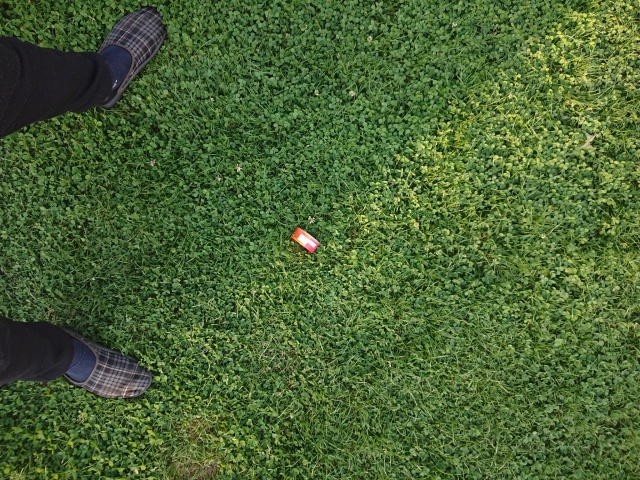Gavrilovic Pork Liver Pate 100g: (289, 225, 322, 254)
